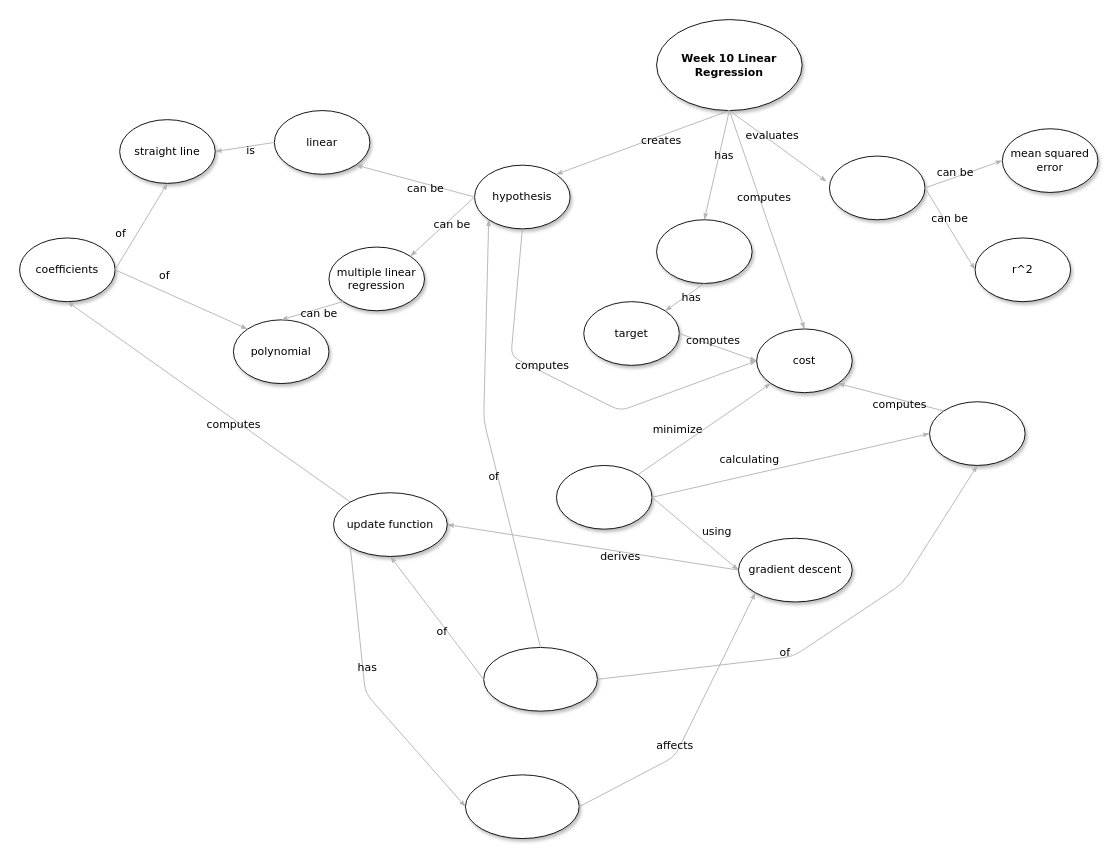
The diagram is 1119 pixels wide and 861 high, and some of its shapes have lost their labels. Each missing label, with the centre of its shape:
cost function: [978,434]
dataset: [705,252]
learning rate: [523,807]
matrix form: [541,680]
metrics: [877,189]
optimization: [604,498]
